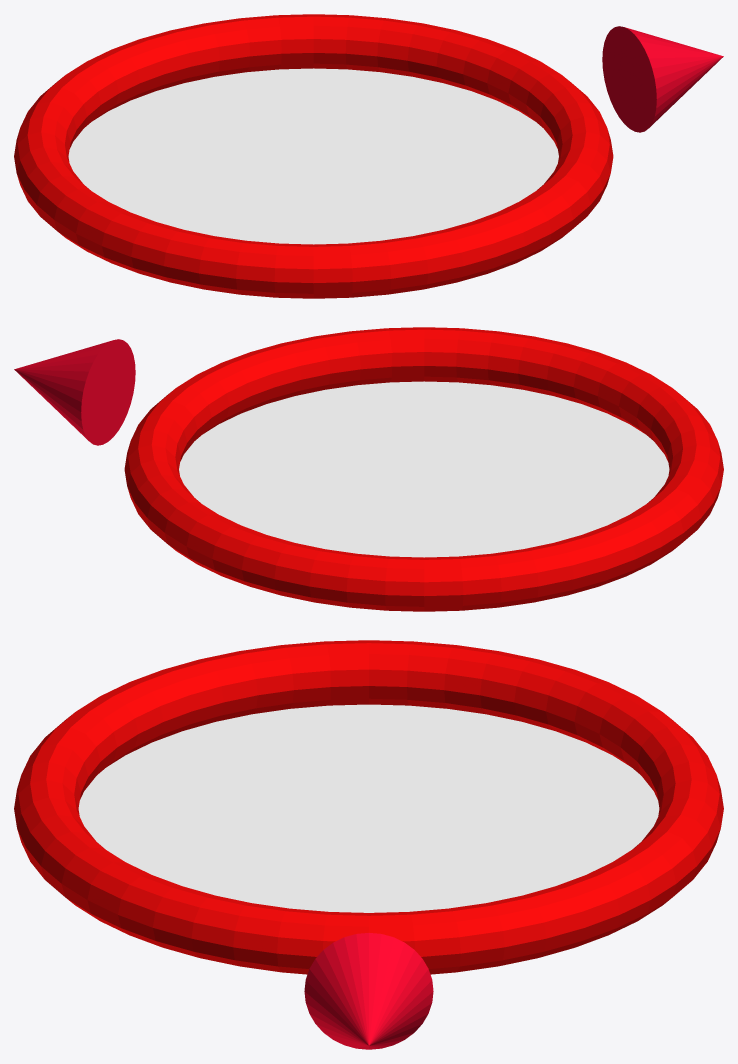
Rendered from RobotMarkerRED.fbx.
3 renders of one model, top to bottom at view 1: azimuth 30°, elevation 25°; view 2: azimuth 150°, elevation 25°; view 3: azimuth 270°, elevation 25°, orthographic. The views are drawn at different scales.
Visible parts, largest first — view 1: marker, arrow; view 2: marker, arrow; view 3: marker, arrow.
Boxes of the visible parts, left/top/right/bottom form: marker: left=14, top=14, right=613, bottom=298; arrow: left=602, top=26, right=723, bottom=132; marker: left=124, top=327, right=723, bottom=611; arrow: left=14, top=339, right=135, bottom=445; marker: left=14, top=640, right=723, bottom=974; arrow: left=304, top=933, right=433, bottom=1049.
Bounding box in the file's own units: 0.1845 × 0.026 × 0.143.
